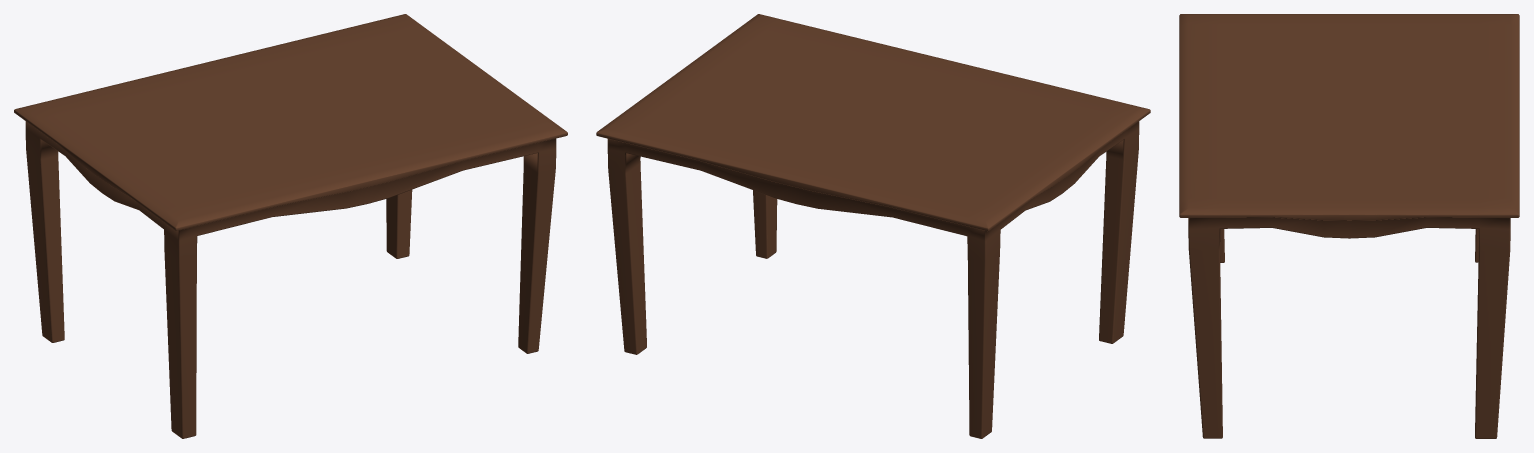
File: SM_Table.fbx
3 renders of one model, left to right at view 1: azimuth 30°, elevation 25°; view 2: azimuth 150°, elevation 25°; view 3: azimuth 270°, elevation 25°, orthographic. The views are drawn at different scales.
Visible parts, largest first — view 1: SM_Table; view 2: SM_Table; view 3: SM_Table.
Part boxes in pixels (x1=…): SM_Table: x1=14, y1=14, x2=567, y2=438; SM_Table: x1=596, y1=14, x2=1150, y2=438; SM_Table: x1=1179, y1=14, x2=1519, y2=438.
Size of the model in its own units: 162 by 89 by 116.
